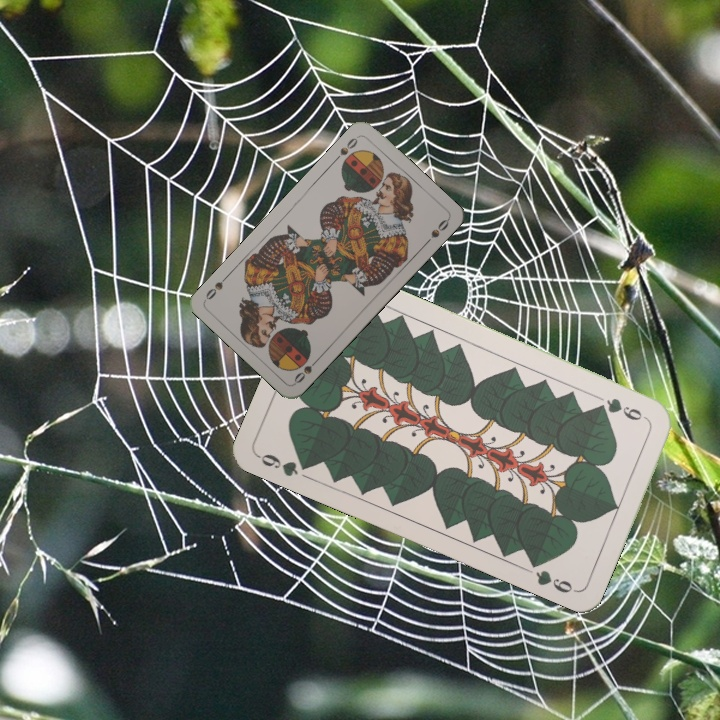G9: (254, 449, 315, 479), (593, 394, 650, 423)
SO: (290, 353, 322, 386), (330, 132, 362, 165)
